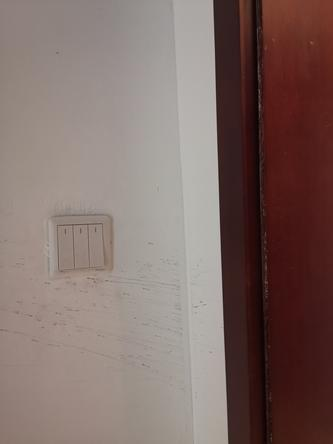switch: (68, 220, 92, 273), (84, 220, 109, 268), (54, 220, 76, 272)
